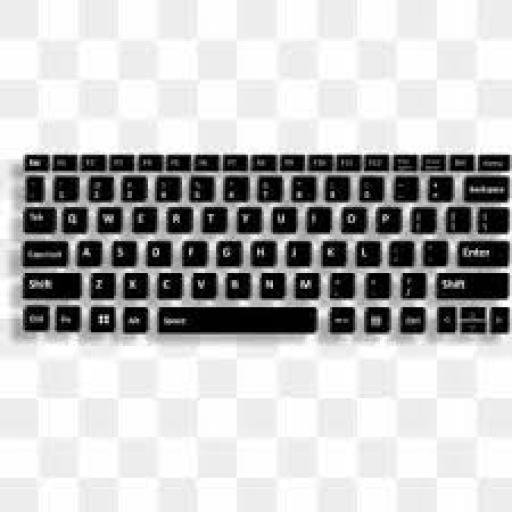keyboard: (19, 146, 512, 344)
